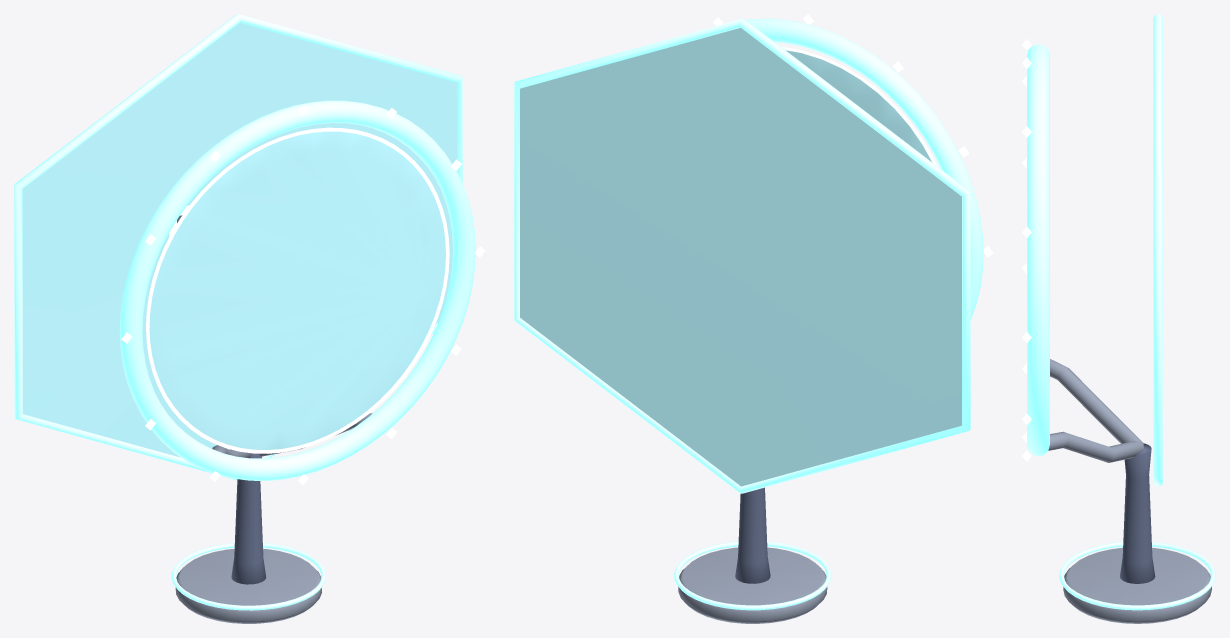
File: Gravity-Hoop-Rig-Exact-Mesh-v2.0.0.glb
3 renders of one model, left to right at view 1: azimuth 30°, elevation 25°; view 2: azimuth 150°, elevation 25°; view 3: azimuth 270°, elevation 25°, orthographic.
Visible parts, largest first — view 1: gravityLens, backboard, hoopRing, backboardFrame, hoopBase, hoopInner, hoopMast, baseGlow; view 2: backboard, backboardFrame, hoopRing, hoopBase, gravityLens, hoopMast, baseGlow, hoopInner; view 3: hoopRing, hoopBase, backboardFrame, hoopMast, hoopForkR, baseGlow, hoopForkL.
Boxes of the visible parts, box(x1,y1,x2,y2) form: gravityLens: box(149, 131, 445, 449); backboard: box(22, 23, 457, 457); hoopRing: box(119, 100, 475, 480); backboardFrame: box(14, 14, 462, 480); hoopBase: box(175, 548, 321, 623); hoopInner: box(146, 127, 449, 453); hoopMast: box(231, 454, 266, 584); baseGlow: box(171, 543, 326, 610); backboard: box(520, 28, 961, 486); backboardFrame: box(514, 18, 970, 493); hoopRing: box(746, 18, 983, 319); hoopBase: box(678, 547, 827, 623); gravityLens: box(786, 50, 931, 161); hoopMast: box(735, 487, 770, 583); baseGlow: box(674, 541, 831, 610); hoopInner: box(781, 47, 937, 166); hoopRing: box(1027, 44, 1049, 456); hoopBase: box(1063, 547, 1211, 623); backboardFrame: box(1153, 14, 1162, 486); hoopMast: box(1120, 443, 1155, 583); hoopForkR: box(1050, 359, 1144, 446); baseGlow: box(1059, 542, 1215, 610); hoopForkL: box(1048, 431, 1144, 462).
Bounding box in the file's own units: 6.34 × 7.76 × 2.35.
5 materials, 2 textured.
